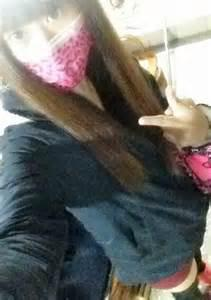OK: (8, 9, 95, 92)
